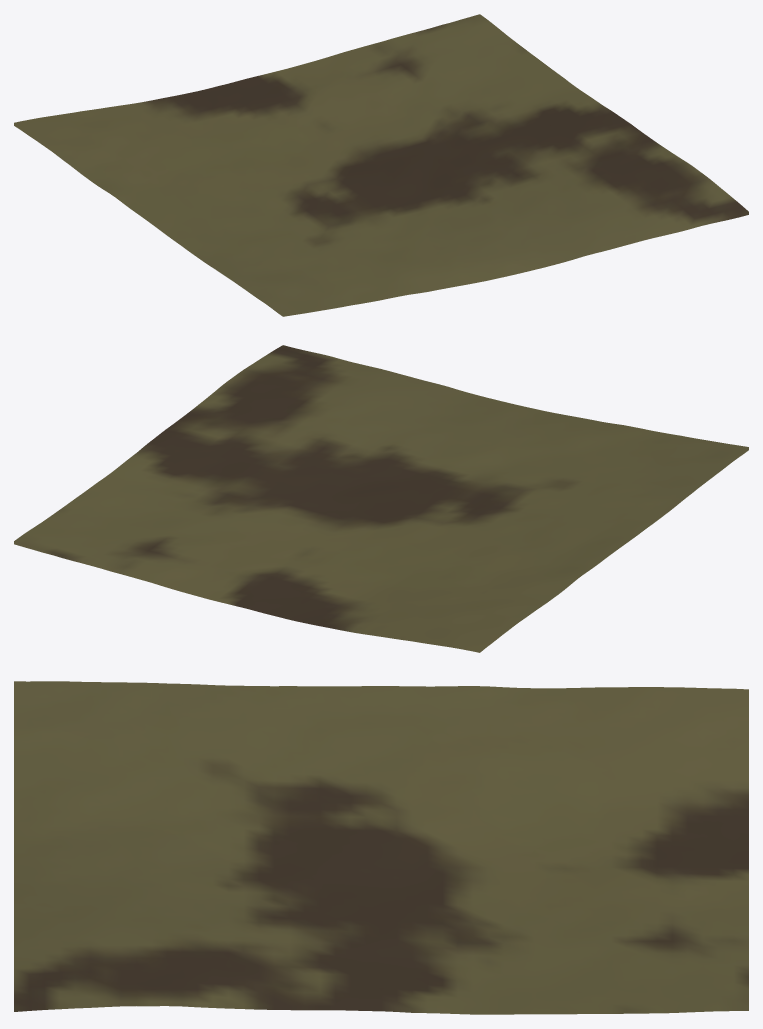
The model's file is land_m_06_01.glb.
3 views of the same model, one above another, from view 1: azimuth 30°, elevation 25°; view 2: azimuth 150°, elevation 25°; view 3: azimuth 270°, elevation 25° (orthographic). The views are drawn at different scales.
Visible parts, largest first — view 1: land_m_06_01; view 2: land_m_06_01; view 3: land_m_06_01.
Part boxes in pixels (left/top/right/bottom): land_m_06_01: left=14, top=14, right=748, bottom=316; land_m_06_01: left=14, top=345, right=748, bottom=652; land_m_06_01: left=14, top=681, right=748, bottom=1014.
Size of the model in its own units: 960 by 44.13 by 960.
